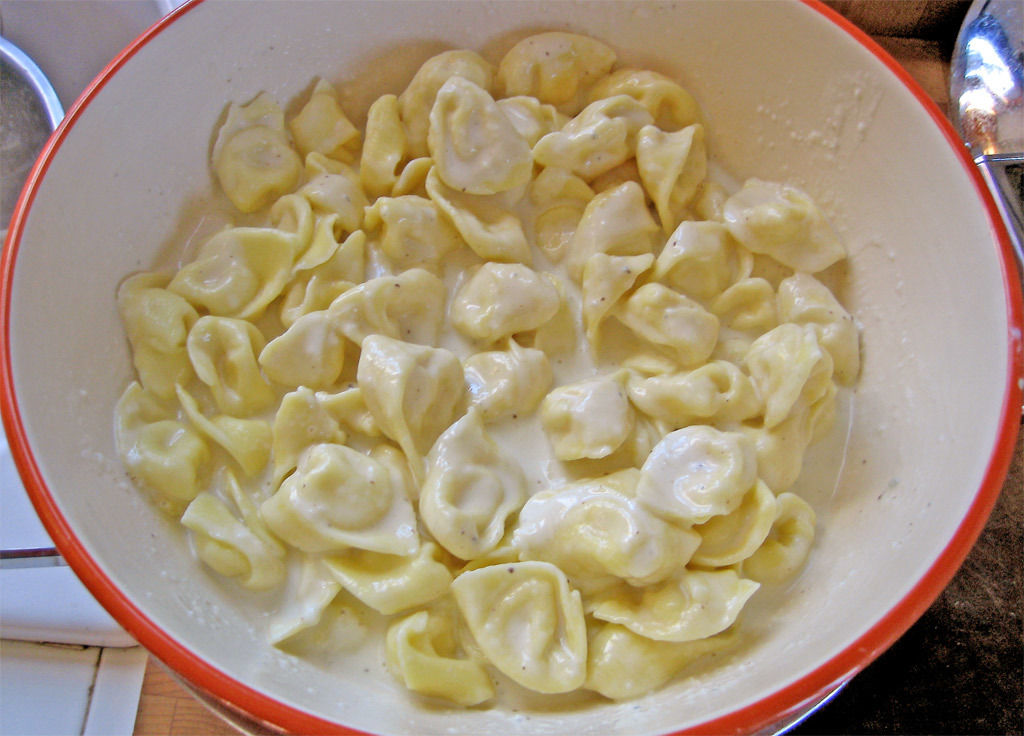pasta: (121, 38, 874, 706)
